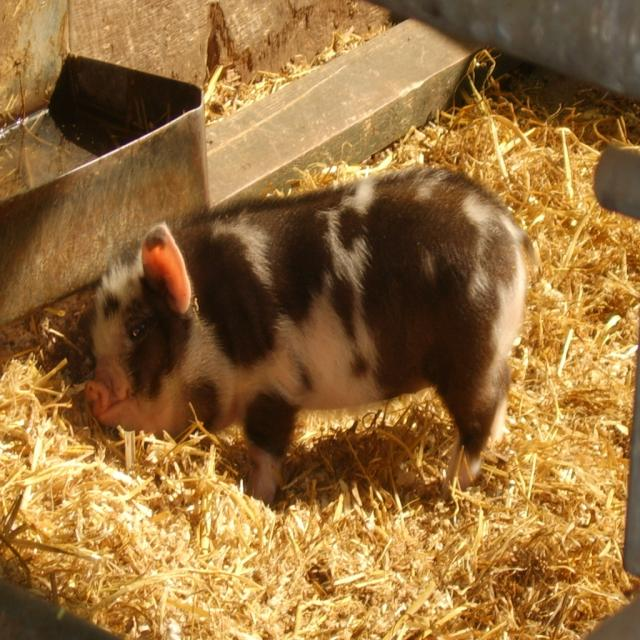Pig: (84, 159, 538, 508)
